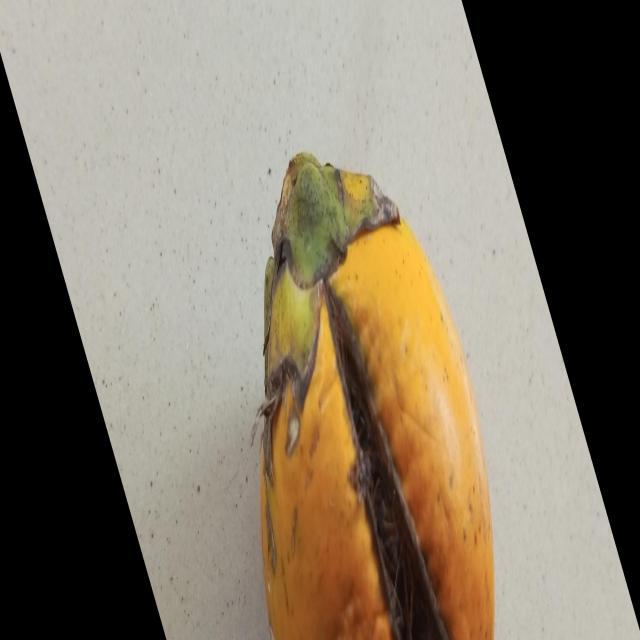damaged: (252, 153, 494, 640)
